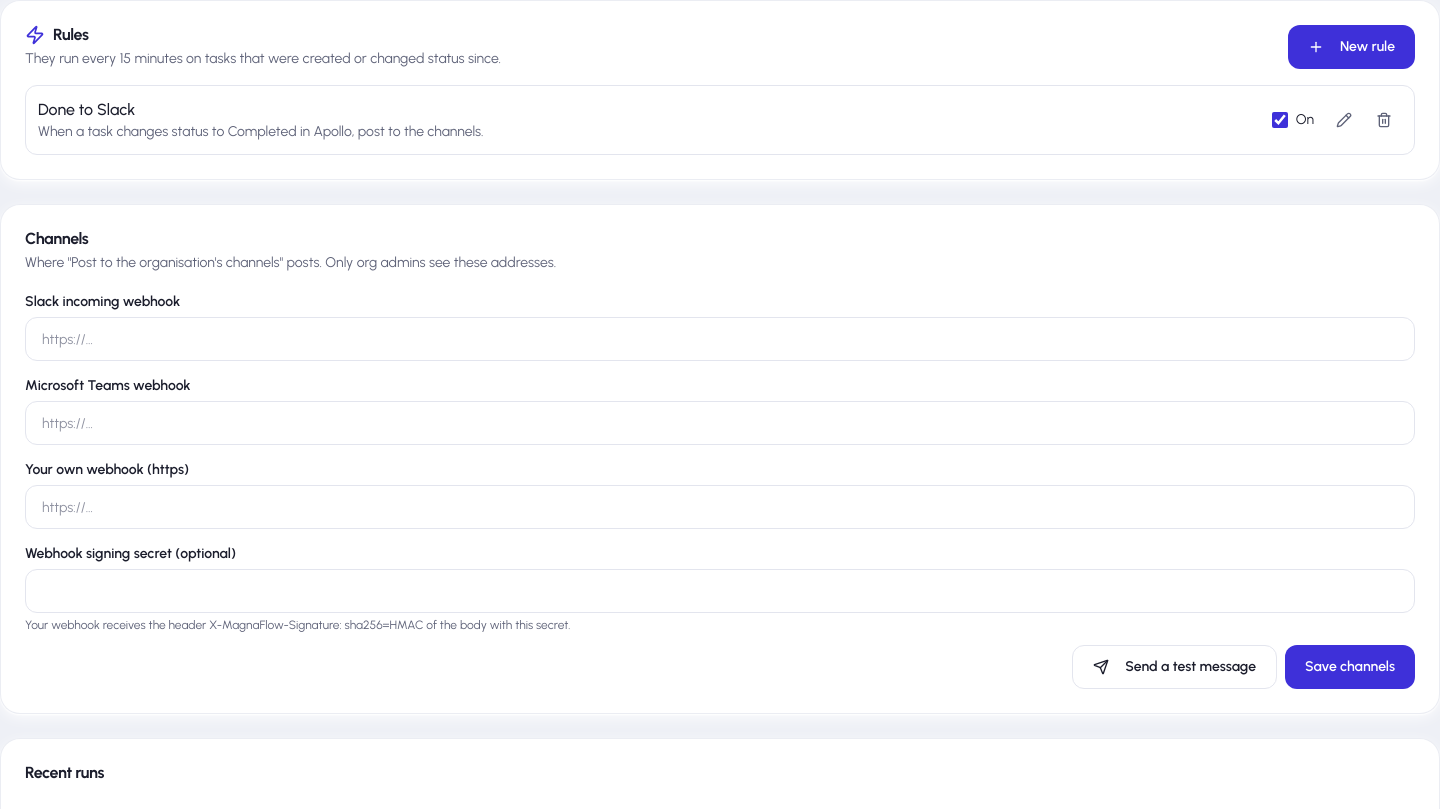
Scenario: AutomationsPage › channel addresses are checked before saving
Step 1. Type "https://example.com/nope" into the field labelled "Slack incoming webhook" → (720,339), box [25,317,1415,361]
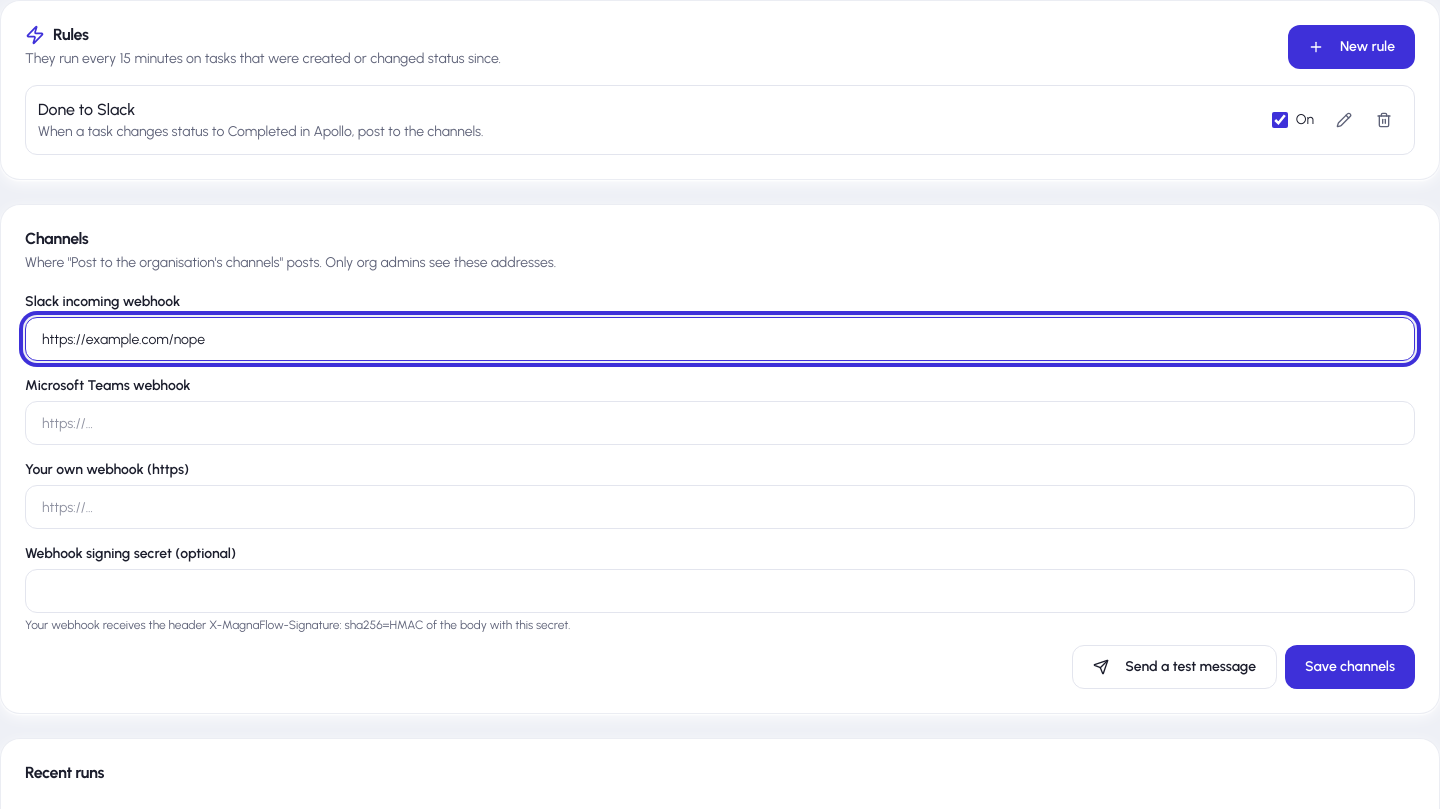
Step 2. Click the button "Save channels" → (1350,667), box [1285,645,1415,689]
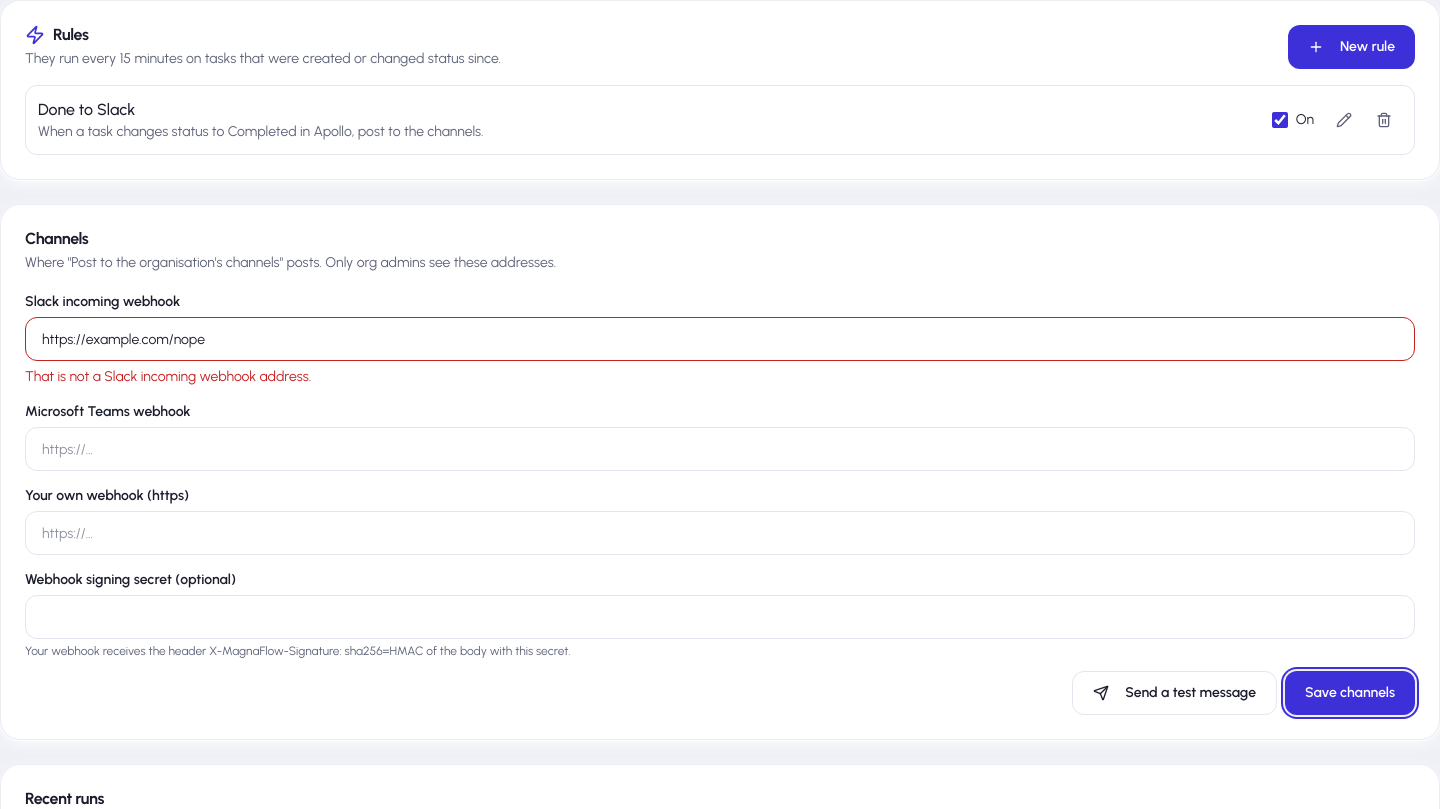
Now the text "That is not a Slack incoming webhook address." is shown, box [25,368,311,385]
